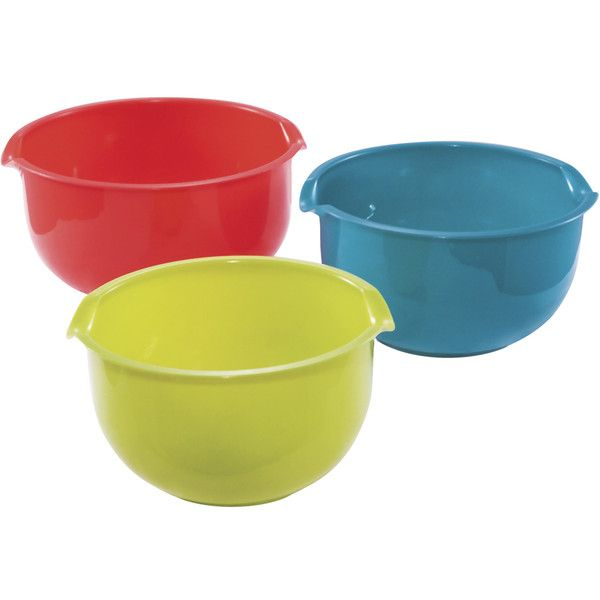Rec_Plastic: (53, 246, 424, 508), (295, 117, 588, 365), (1, 76, 310, 284)
